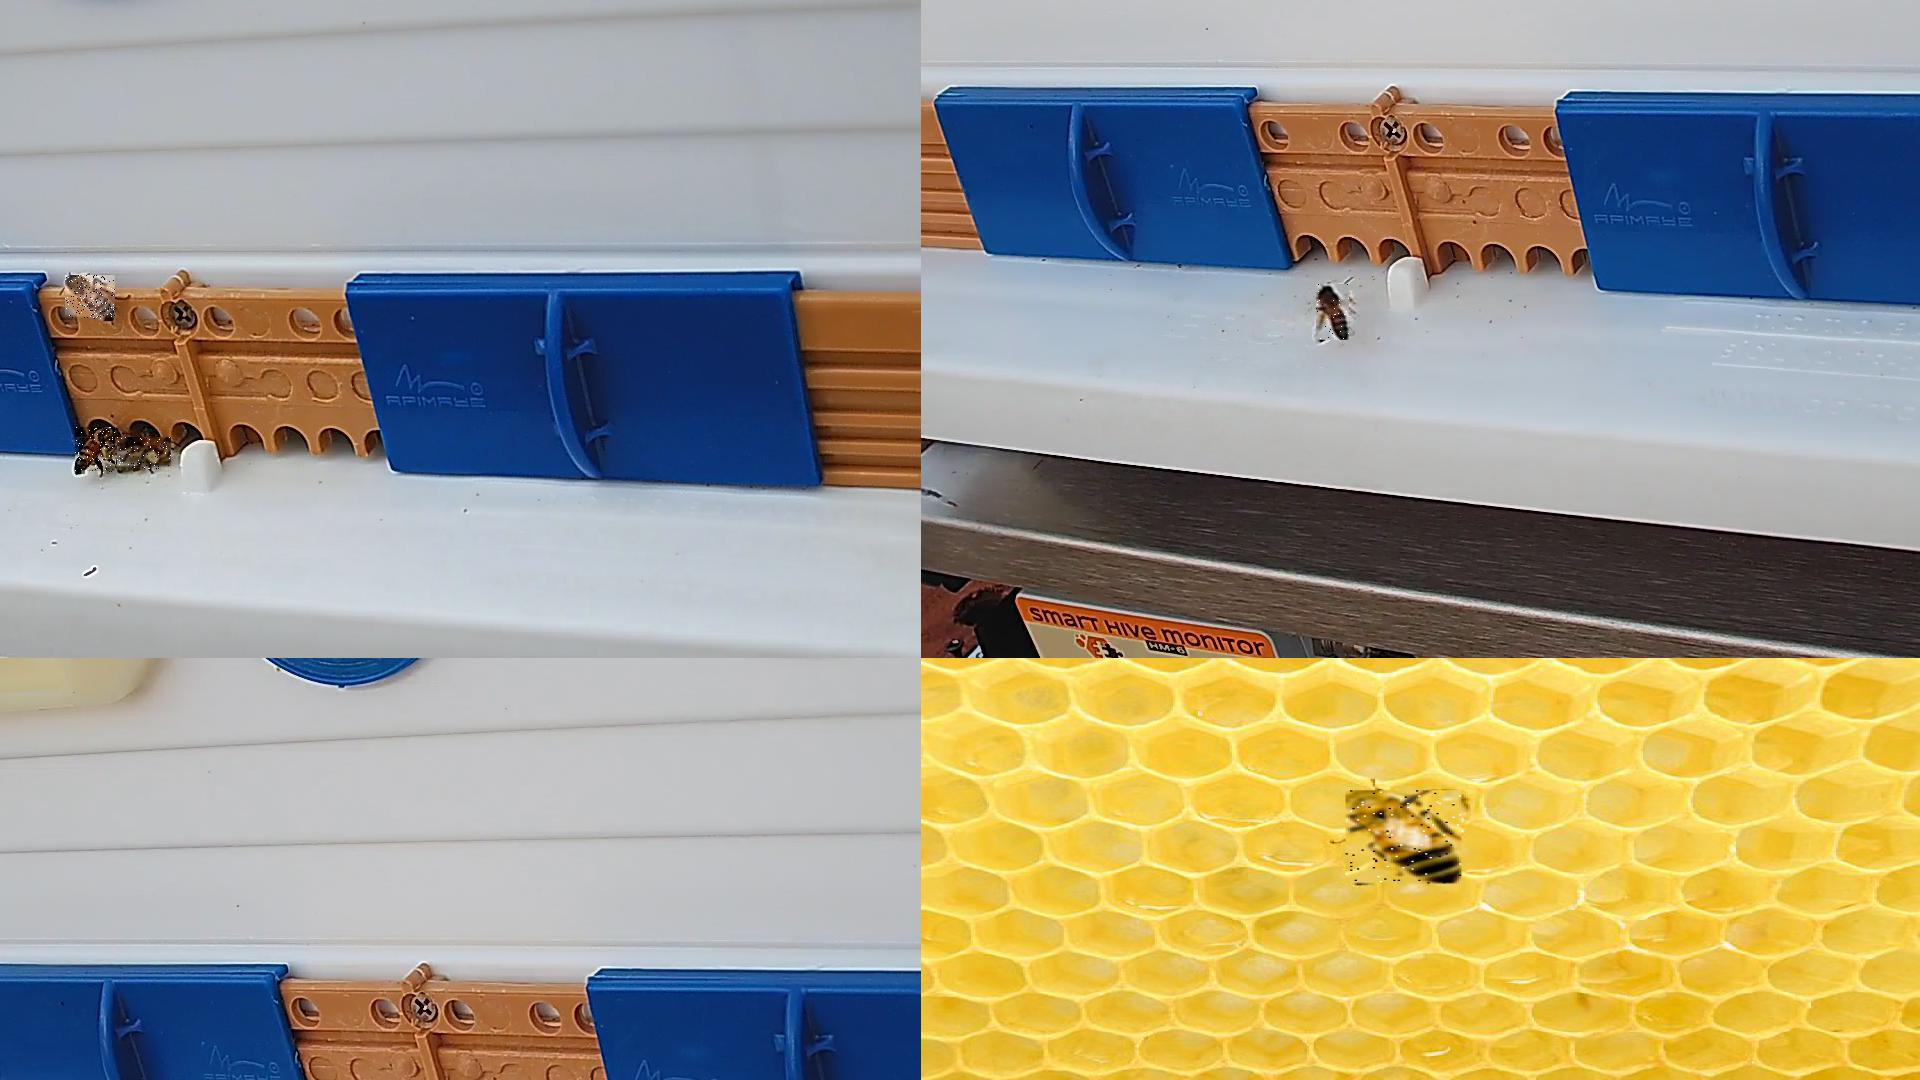bee: (1346, 790, 1464, 885), (65, 276, 116, 320)
pollenbee: (1316, 284, 1350, 342), (75, 427, 116, 475), (117, 438, 171, 471)
